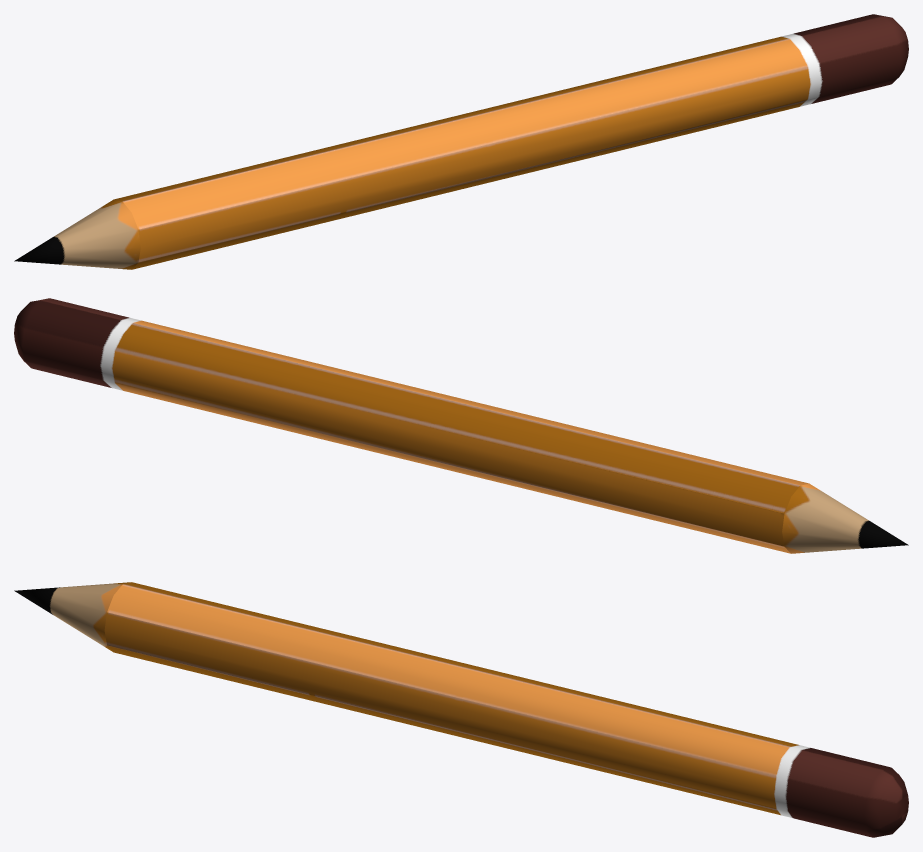
File: Pencil_V3.fbx
The picture shows the model from 3 angles, top to bottom: view 1: azimuth 30°, elevation 25°; view 2: azimuth 150°, elevation 25°; view 3: azimuth 330°, elevation 25°; orthographic projection.
Parts seen in each view (by area): view 1: pCylinder1; view 2: pCylinder1; view 3: pCylinder1.
Part boxes in pixels (left/top/right/bottom): pCylinder1: left=14, top=14, right=908, bottom=269; pCylinder1: left=14, top=298, right=908, bottom=553; pCylinder1: left=14, top=582, right=908, bottom=837.
Bounding box in the file's own units: 8.66 × 0.6133 × 0.6133.
